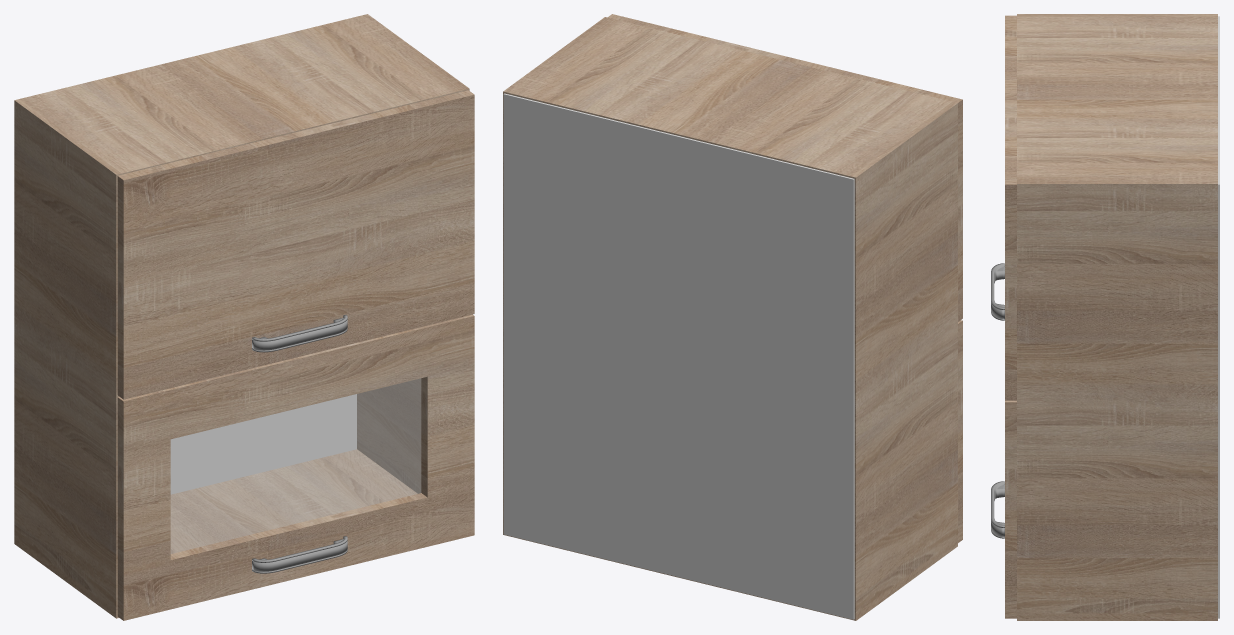
Rendered from s_f2fau_72_60.glb.
3 renders of one model, left to right at view 1: azimuth 30°, elevation 25°; view 2: azimuth 150°, elevation 25°; view 3: azimuth 270°, elevation 25°, orthographic.
Visible parts, largest first — view 1: s_f2fau_72_60_korpusz, s_f2fau_72_60_ajto_1, s_f2fau_72_60_ajto_2, s_f2fau_72_60_uveg, s_f2fau_72_60_fogo_2, s_f2fau_72_60_fogo_1; view 2: s_f2fau_72_60_korpusz, s_f2fau_72_60_ajto_1, s_f2fau_72_60_ajto_2; view 3: s_f2fau_72_60_korpusz, s_f2fau_72_60_ajto_1, s_f2fau_72_60_ajto_2, s_f2fau_72_60_fogo_1, s_f2fau_72_60_fogo_2.
Part boxes in pixels (x1,y1,x2,y2): s_f2fau_72_60_korpusz: [14, 14, 469, 618]; s_f2fau_72_60_ajto_1: [117, 90, 474, 399]; s_f2fau_72_60_ajto_2: [117, 314, 474, 620]; s_f2fau_72_60_uveg: [171, 378, 420, 553]; s_f2fau_72_60_fogo_2: [252, 536, 347, 573]; s_f2fau_72_60_fogo_1: [252, 314, 347, 352]; s_f2fau_72_60_korpusz: [503, 17, 957, 620]; s_f2fau_72_60_ajto_1: [607, 14, 962, 321]; s_f2fau_72_60_ajto_2: [958, 320, 962, 542]; s_f2fau_72_60_korpusz: [1017, 14, 1219, 620]; s_f2fau_72_60_ajto_1: [1005, 15, 1016, 400]; s_f2fau_72_60_ajto_2: [1005, 400, 1016, 618]; s_f2fau_72_60_fogo_1: [991, 263, 1004, 320]; s_f2fau_72_60_fogo_2: [991, 481, 1004, 538].
Size of the model in its own units: 0.6 by 0.72 by 0.3418.
Materials: 6 (3 with a texture image).
